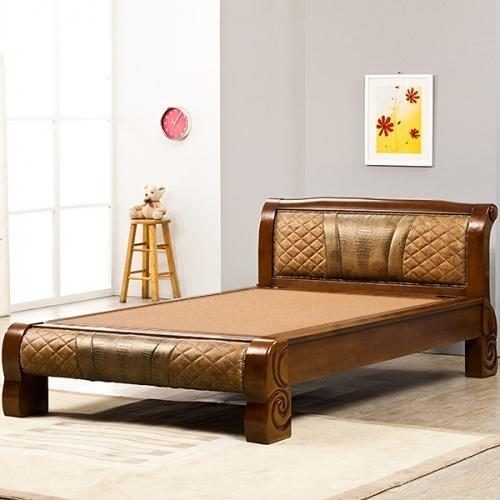Bed-Mattress: (8, 176, 485, 446)
